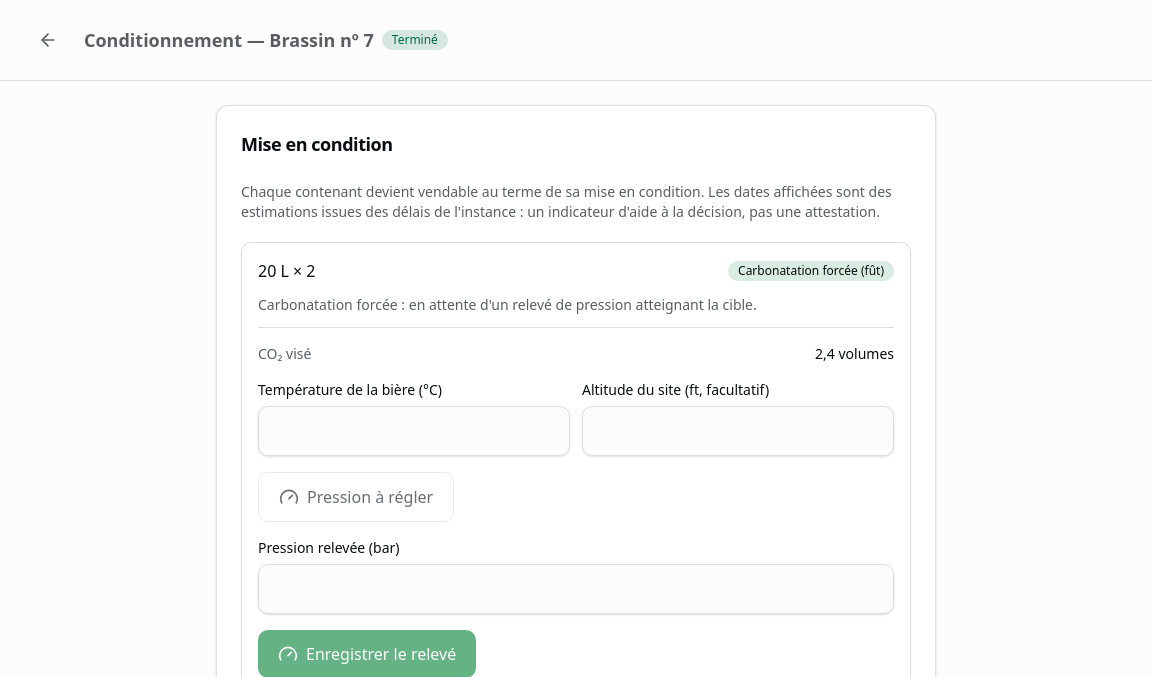
relevé de carbonatation forcée (#273) › aide au réglage (avant relevé) › affiche la pression cible ET sa tolérance à la température saisie
The image size is (1152, 677).
Type "4" into the number field labelled "Température de la bière (°C)" at (414, 431), box [258,406,570,456]
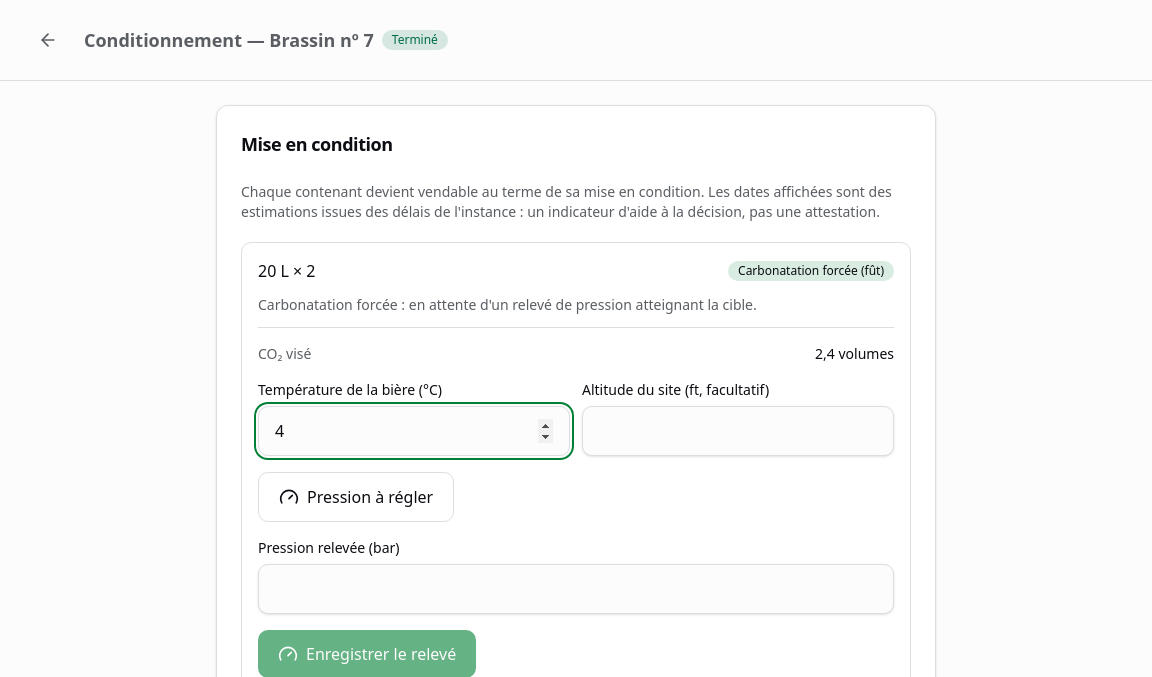
Click the button "Pression à régler" at (356, 497), box [258,472,454,522]
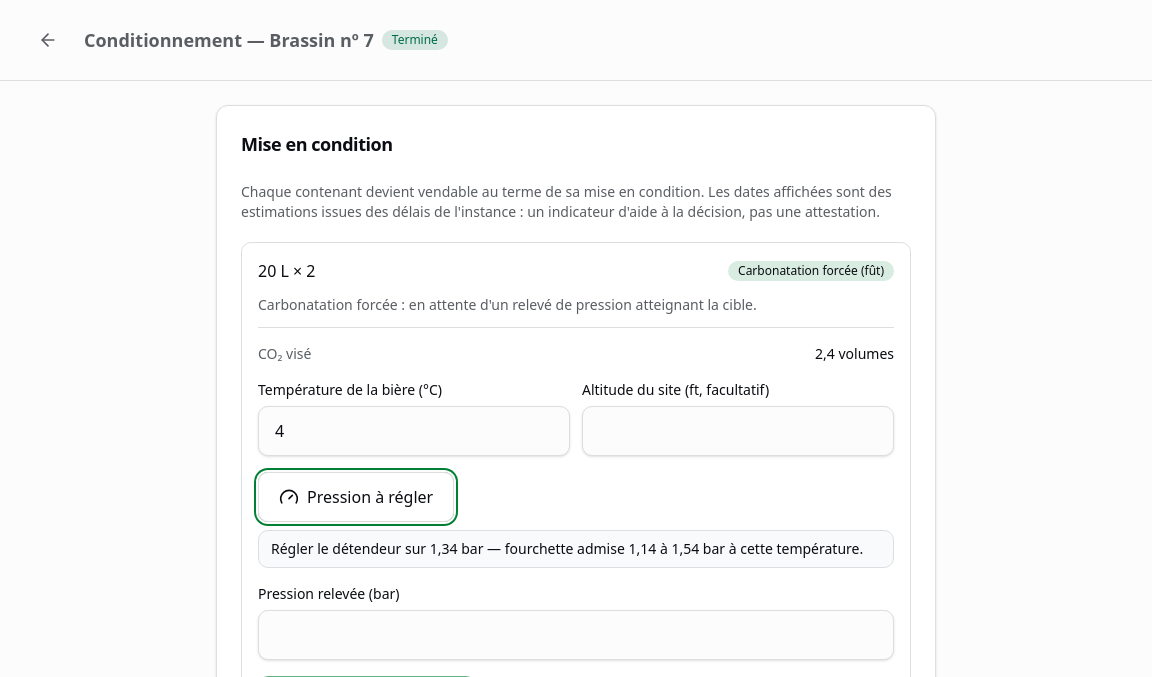
Expected: the text "Régler le détendeur sur" shows "1,34 bar", [258,530,894,568]
Expected: the text "Régler le détendeur sur" shows "1,14", [628,539,656,558]
Expected: the text "Régler le détendeur sur" shows "1,54", [671,539,699,558]
